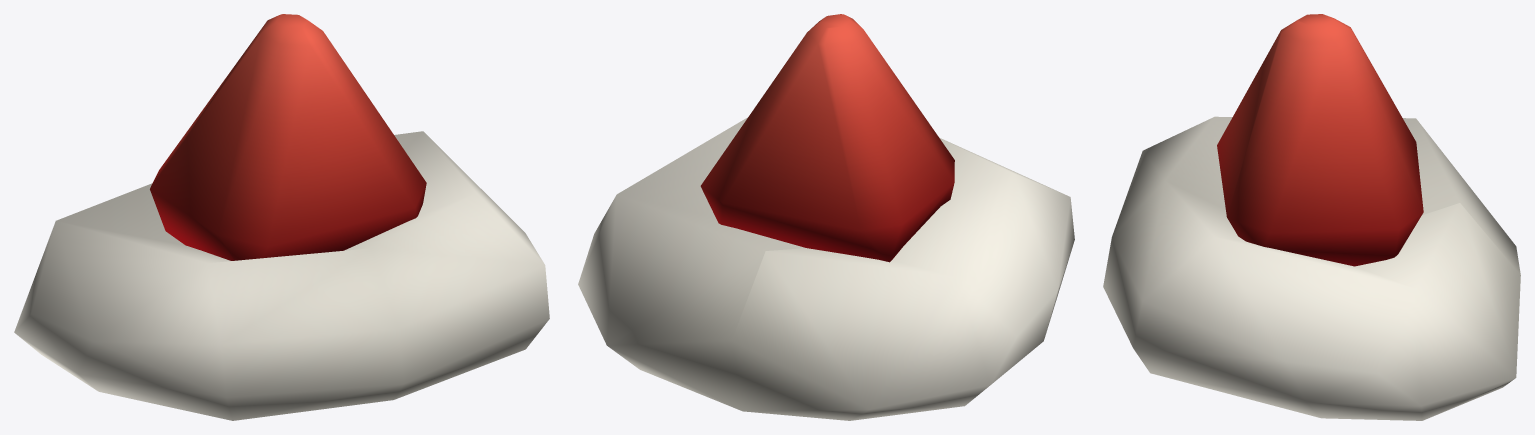
File: Sweets_StrawberryMochi.fbx
The picture shows the model from 3 angles, left to right: view 1: azimuth 30°, elevation 25°; view 2: azimuth 150°, elevation 25°; view 3: azimuth 270°, elevation 25°; orthographic projection. The views are drawn at different scales.
Visible parts, largest first — view 1: Sweets_StrawberryMochi; view 2: Sweets_StrawberryMochi; view 3: Sweets_StrawberryMochi.
Part boxes in pixels (x1,y1,x2,y2): Sweets_StrawberryMochi: [14, 14, 549, 420]; Sweets_StrawberryMochi: [578, 14, 1074, 420]; Sweets_StrawberryMochi: [1103, 14, 1520, 420].
Size of the model in its own units: 0.2426 by 0.1791 by 0.2025.
Materials: 1 (1 with a texture image).
